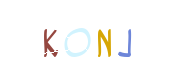0: (49, 0, 129, 80)
J: (76, 0, 156, 80)
K: (8, 0, 88, 80)
N: (64, 0, 144, 80)
